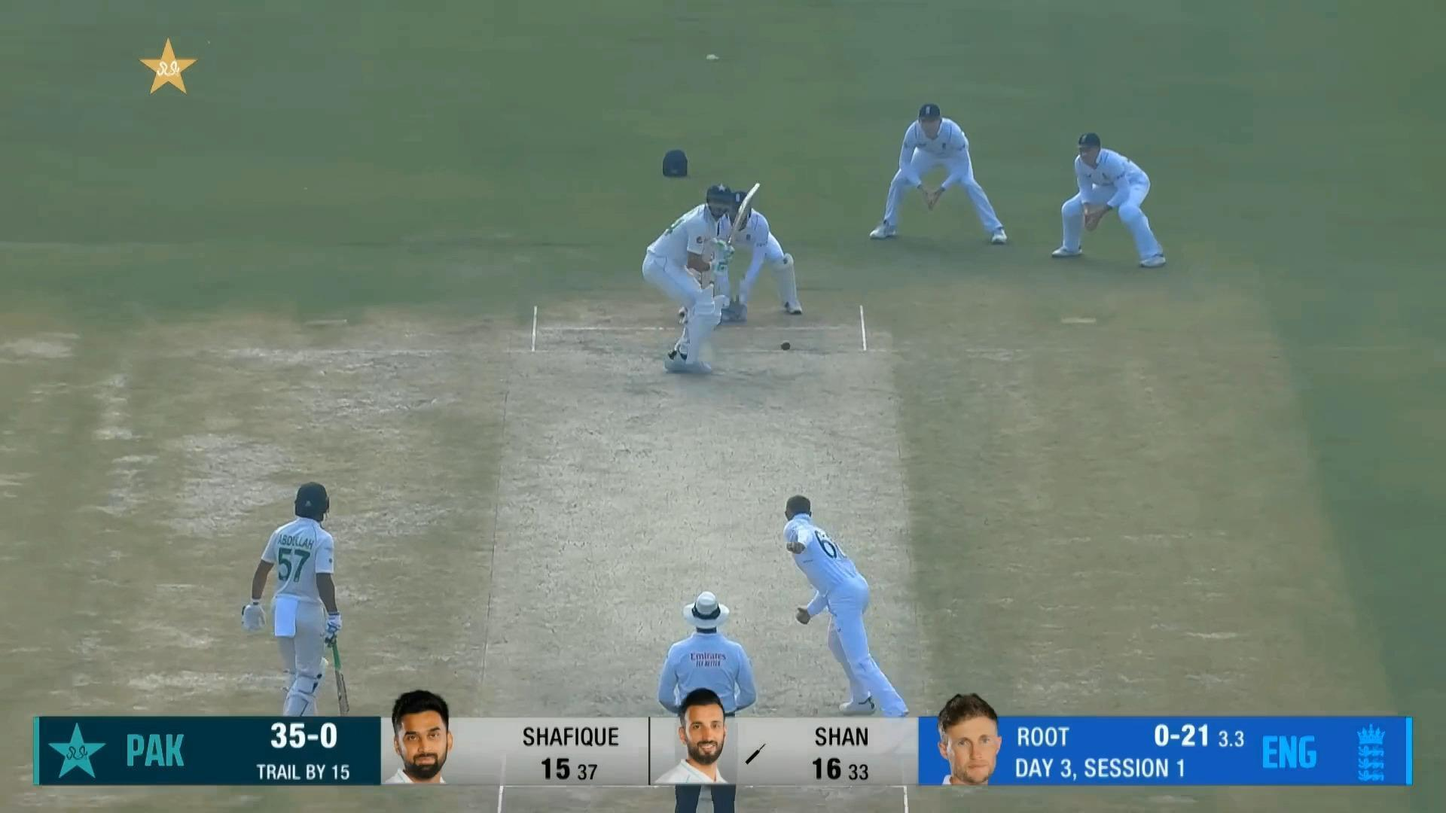BM 1: (641, 179, 762, 377)
BO: (782, 494, 912, 734)
